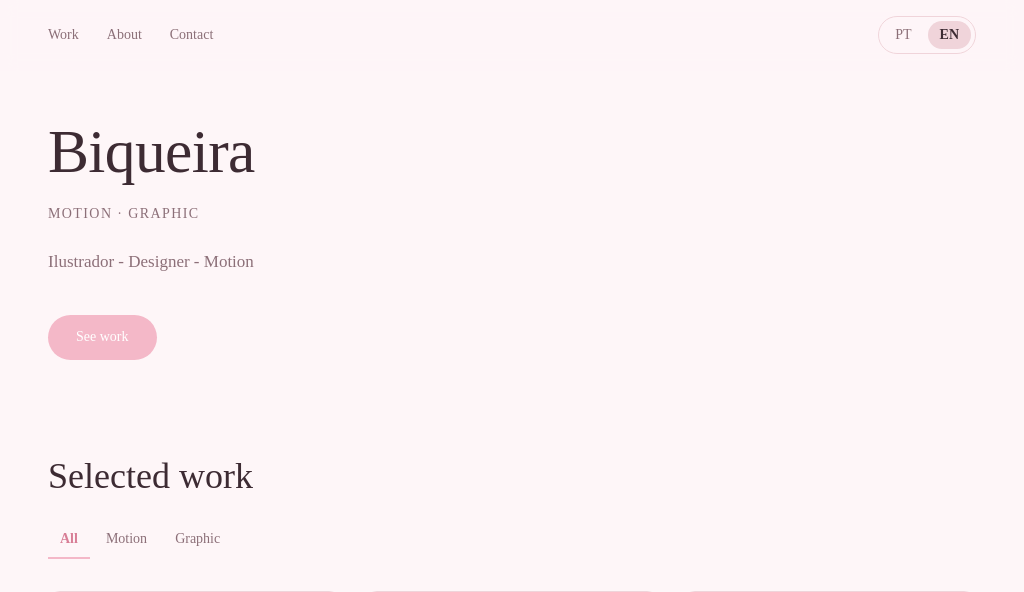
Scenario: App › switches the whole page language via the navbar toggle
This screenshot has width=1024, height=592.
Expected: the heading "Selected work" is shown, [48,456,253,496]
Click the button "pt". click: click(903, 35)
box: [883,21,924,49]
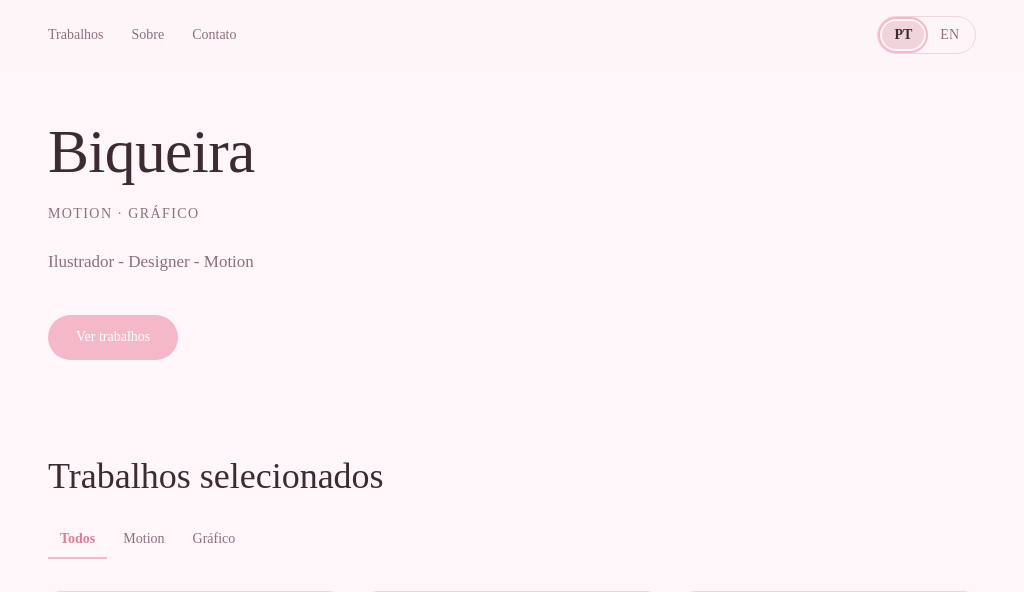
Result: the heading "Trabalhos selecionados" is shown at [48,456,384,496]
Result: the link "Ver trabalhos" is shown at [48,315,178,360]
